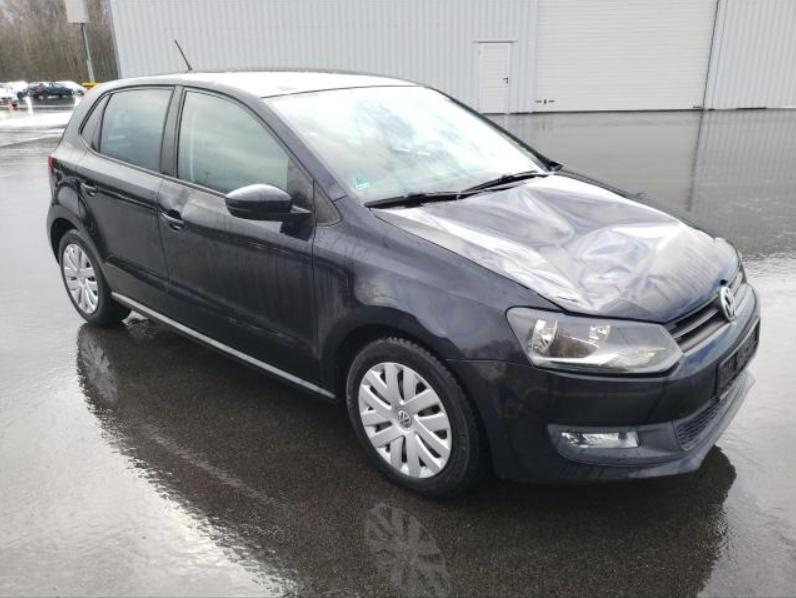Back-door: (76, 84, 173, 320)
Back-wheel: (59, 229, 130, 325)
Back-window: (100, 90, 170, 172), (82, 96, 107, 143)
Fender: (313, 192, 561, 392)
Front-bumper: (440, 286, 760, 485)
Front-door: (158, 86, 320, 386)
Front-wheel: (345, 337, 493, 498)
Front-window: (177, 91, 288, 211)
Grille: (664, 265, 748, 353)
Headlight: (507, 306, 683, 374)
Hood: (370, 167, 742, 324)
License-plate: (719, 319, 758, 398)
Mirror: (226, 158, 313, 223)
Quarter-panel: (46, 130, 86, 255)
Rocker-panel: (111, 290, 338, 406)
Roof: (94, 67, 423, 97)
Windshield: (262, 86, 552, 206)
